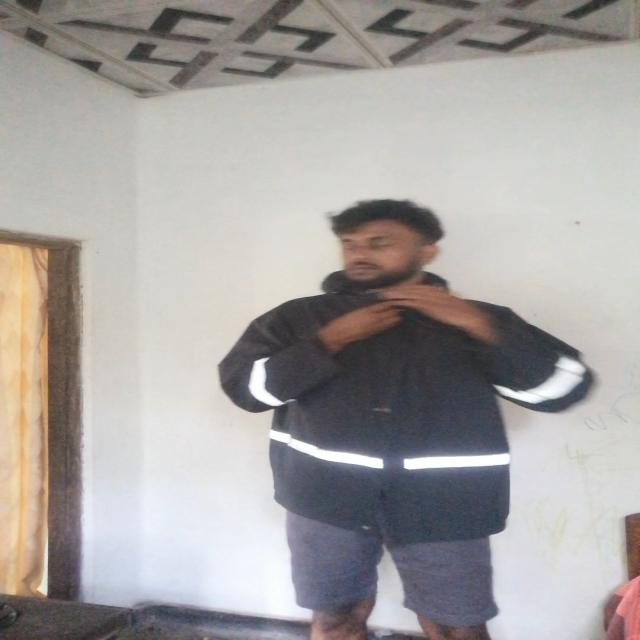Jacket_Wearer: (231, 277, 591, 539)
Person: (226, 189, 584, 640)
